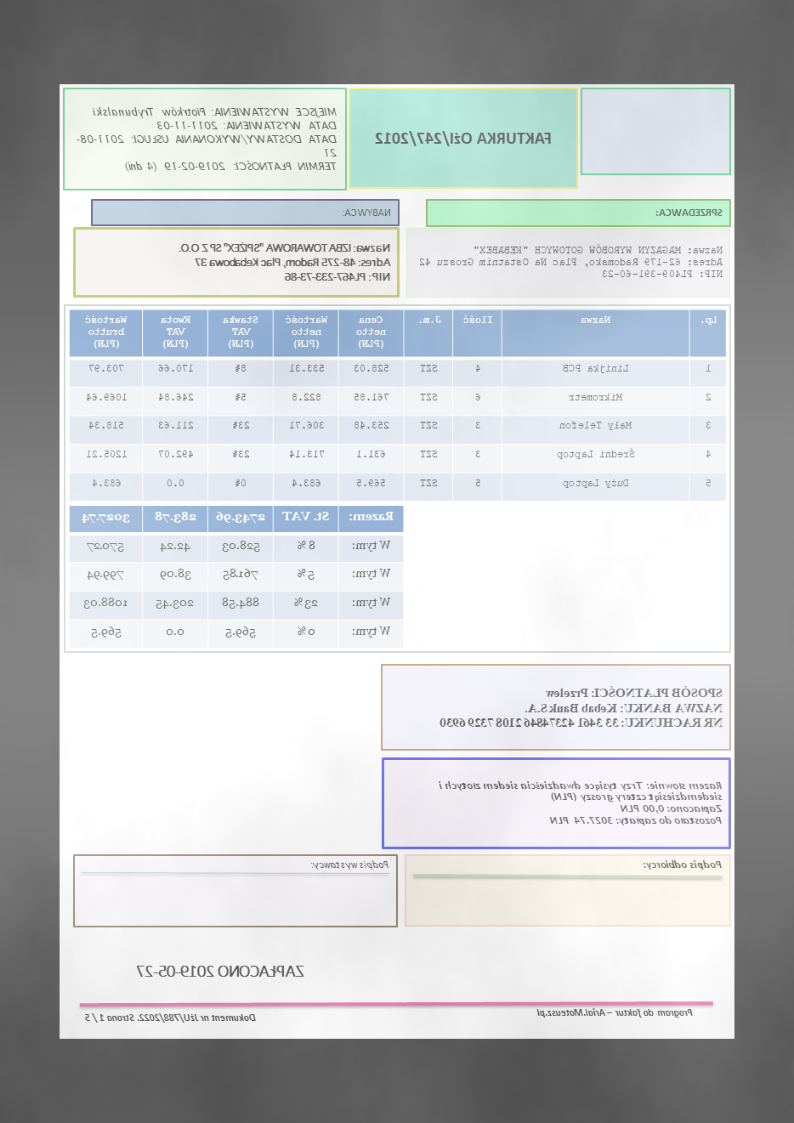Table: (69, 307, 728, 502), (69, 505, 405, 649)
TextBox: (76, 104, 341, 173), (435, 779, 724, 827), (439, 683, 724, 730), (418, 244, 725, 281), (179, 241, 394, 283), (373, 129, 554, 148), (134, 961, 307, 979), (83, 1011, 258, 1024), (534, 1006, 697, 1019), (643, 858, 725, 871), (655, 206, 725, 220), (310, 859, 390, 870), (342, 205, 394, 220)
